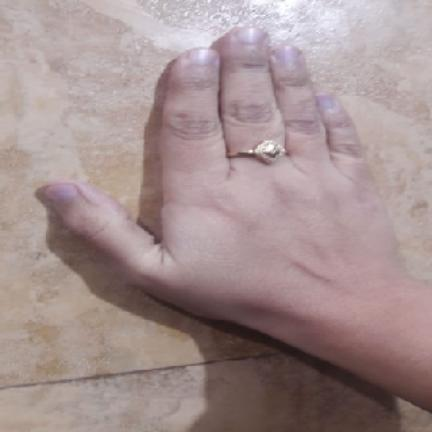Nail: (45, 184, 80, 204), (237, 27, 264, 45), (189, 49, 217, 65), (277, 46, 300, 64), (316, 94, 335, 110)
